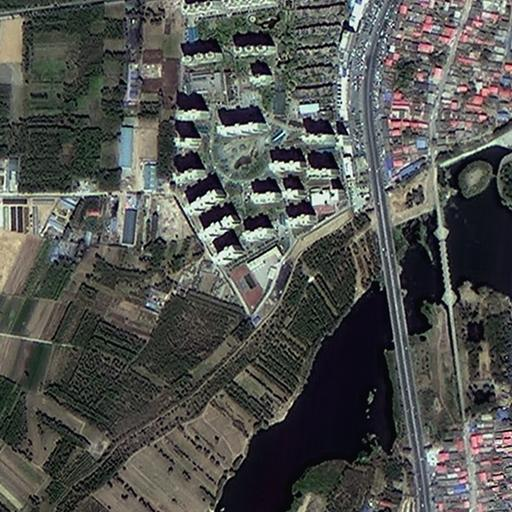school: (223, 239, 286, 322)
